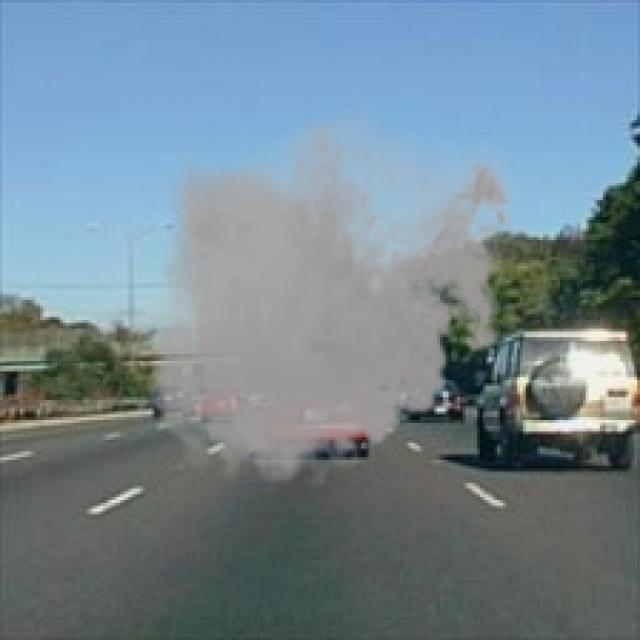Smoke: (137, 97, 523, 497)
